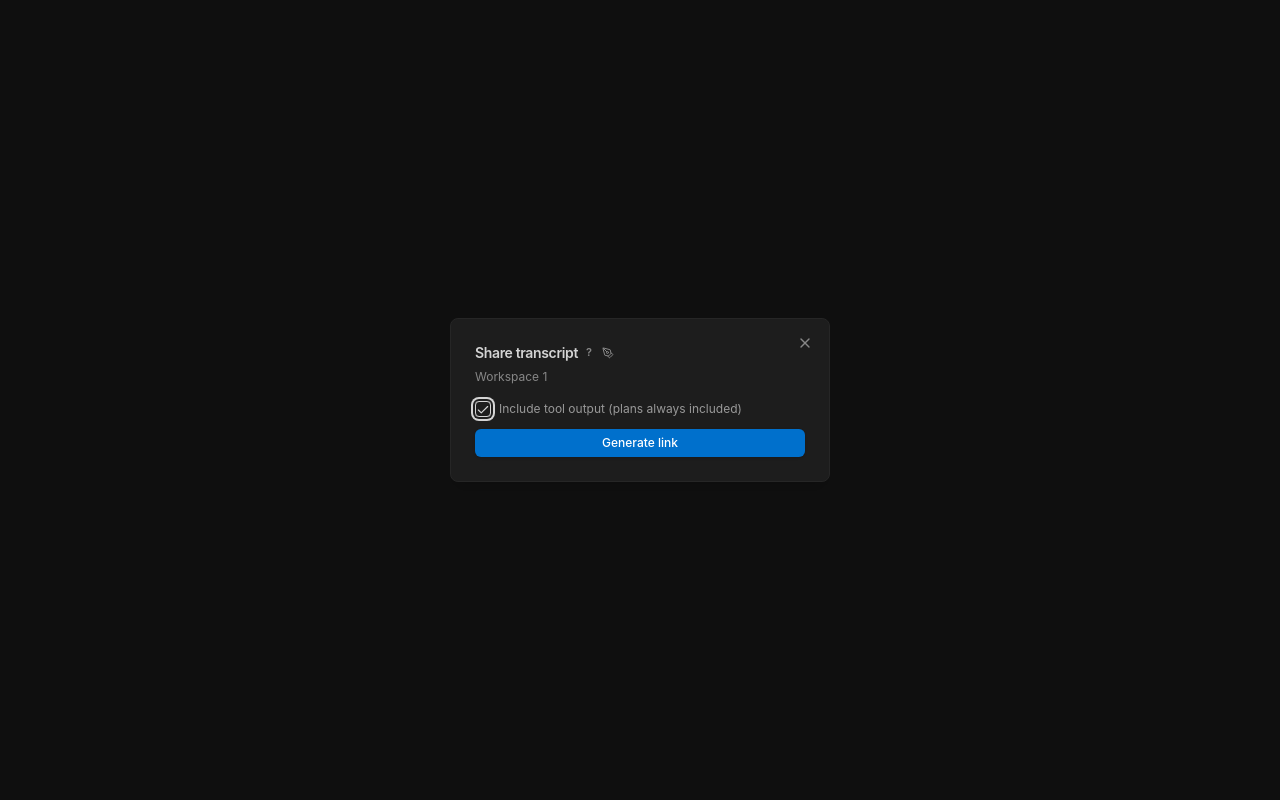
Test: ShareTranscriptDialog › deletes an existing shared transcript link and clears the URL
The image size is (1280, 800).
Click the button "Generate link" at (640, 443), box [475,429,805,457]
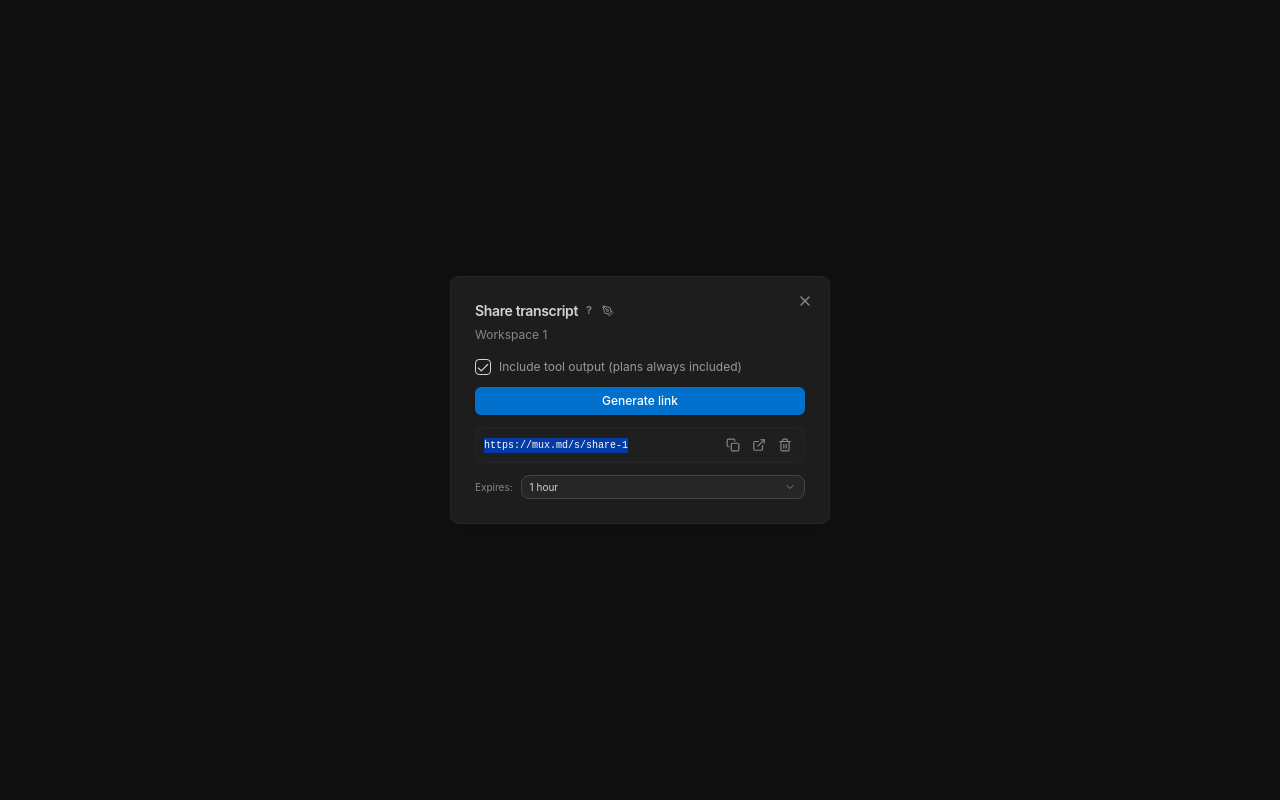
Check: the field with test id "share-transcript-url" is shown, box [484,438,718,452]
Click the button with test id "delete-share-transcript-url" at (785, 445), box [774,434,796,456]
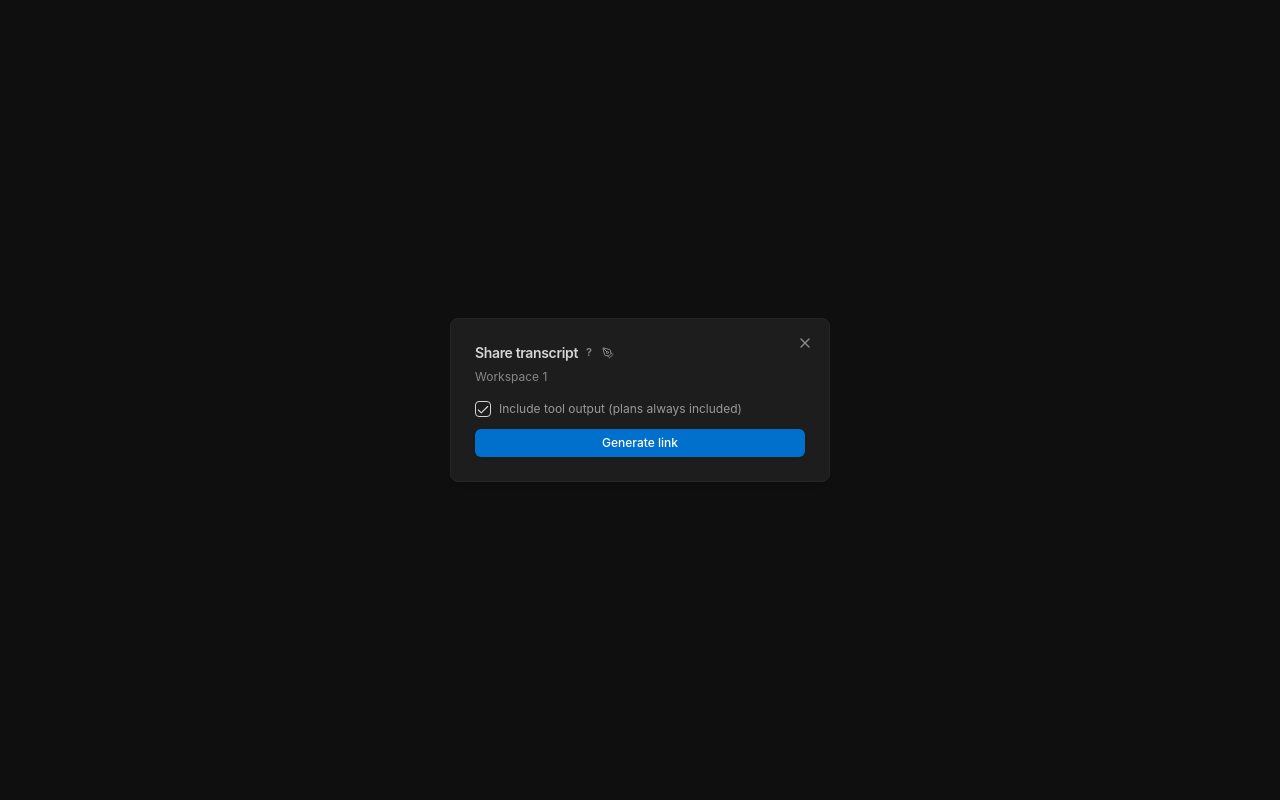
Check: the field with test id "share-transcript-url" is gone
